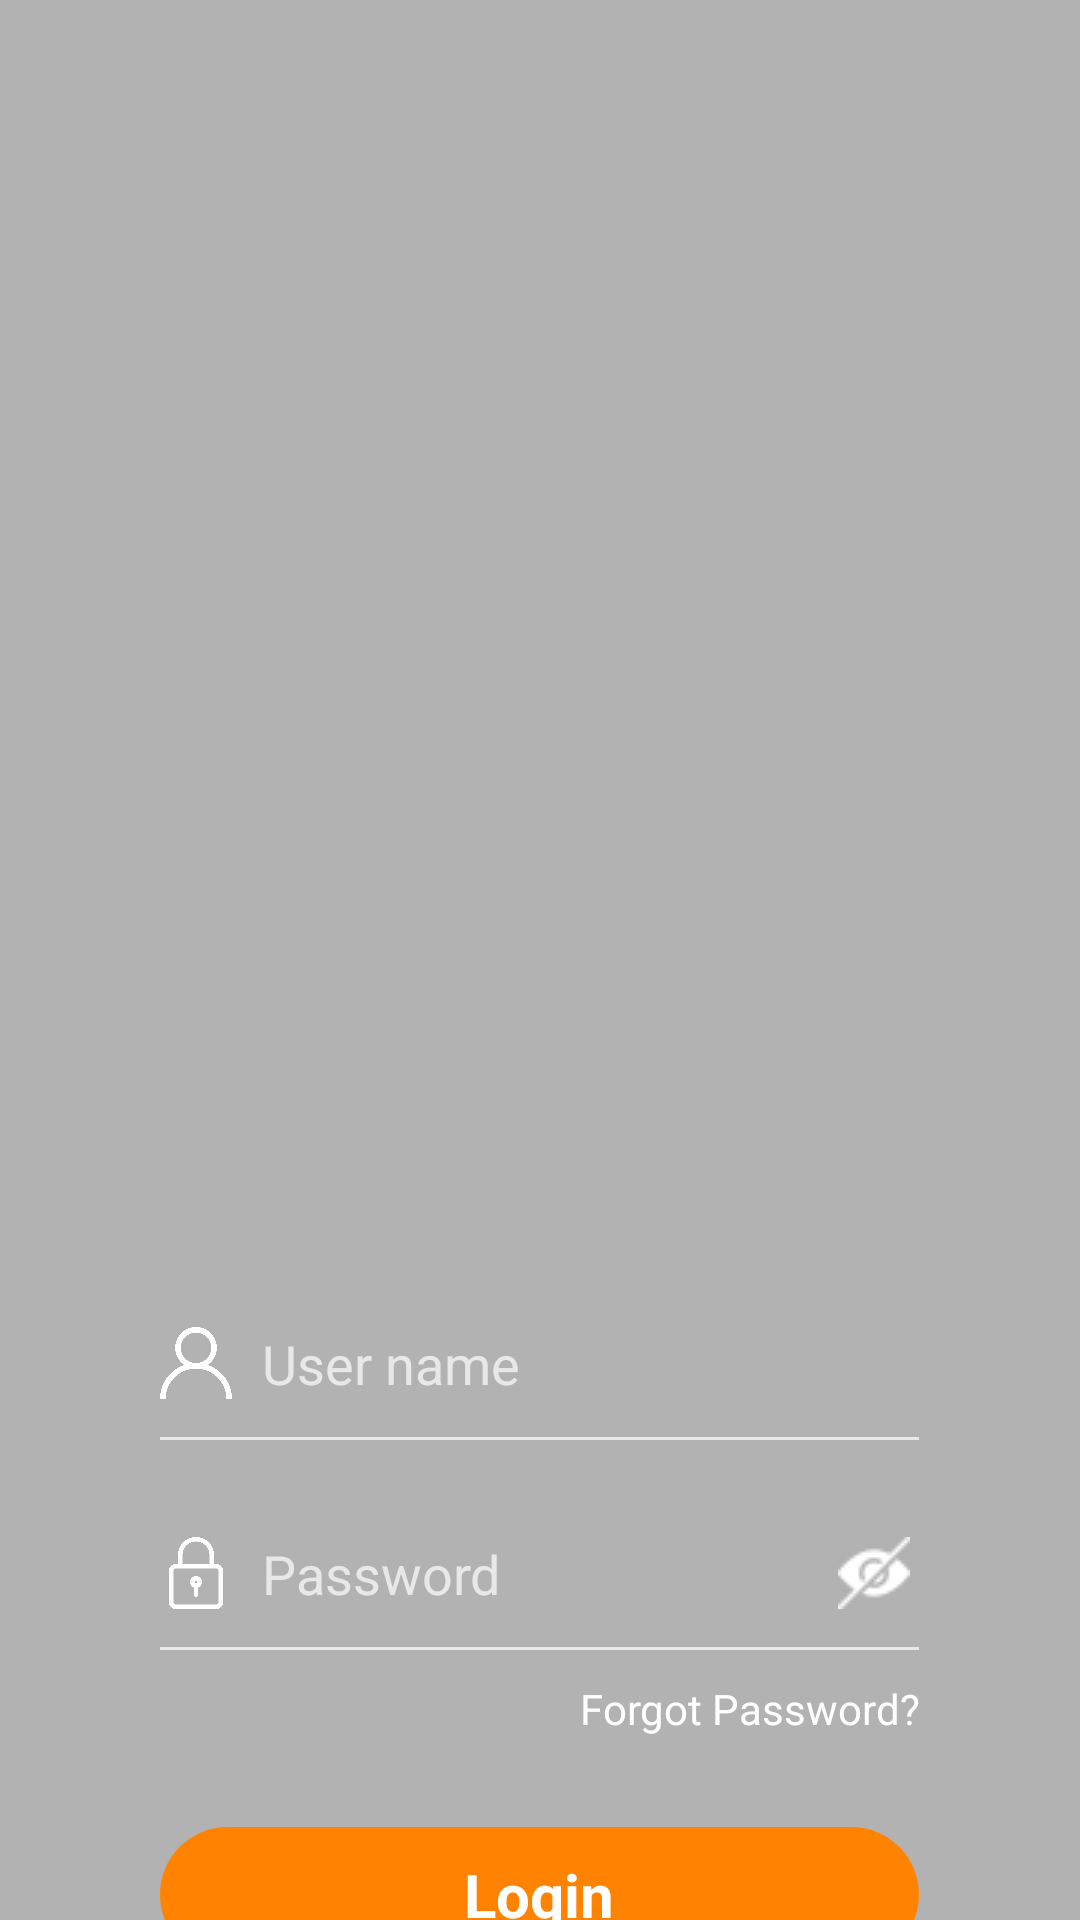

Where icons sit on this 1080×1920 app screen, as (x1=x1, y1=y1, x2=x2, y2=y2):
invisible: (x1=838, y1=1537, x2=910, y2=1609)
lock: (x1=169, y1=1537, x2=223, y2=1609)
